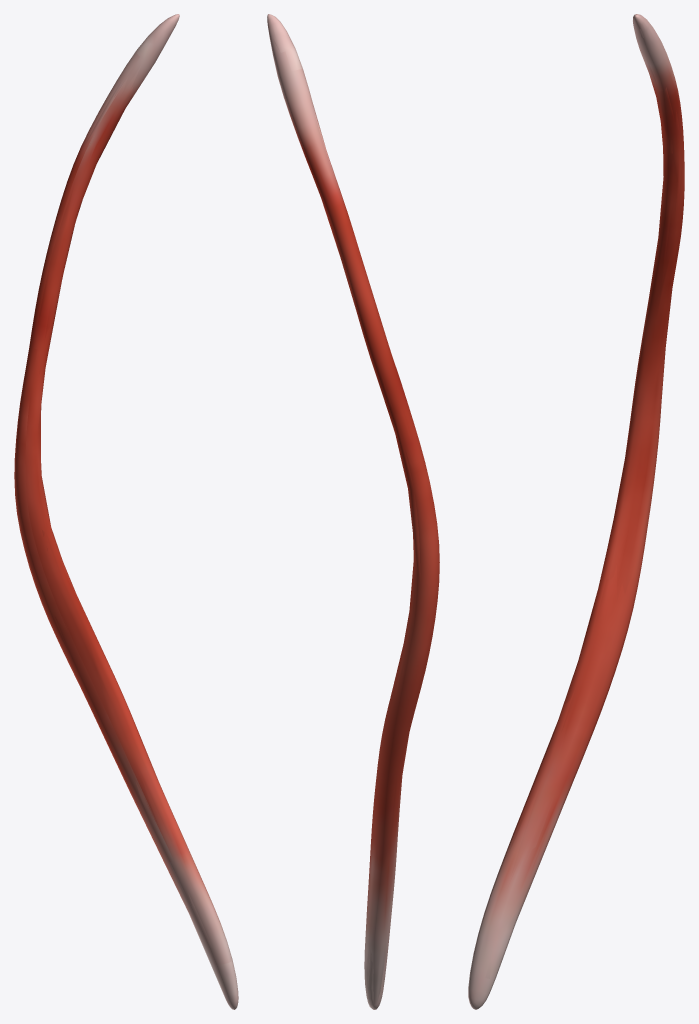
The model's file is R Tensor Fasciae Antebrachii.fbx.
3 views of the same model, side by side, from view 1: azimuth 30°, elevation 25°; view 2: azimuth 150°, elevation 25°; view 3: azimuth 270°, elevation 25° (orthographic). The views are drawn at different scales.
Visible parts, largest first — view 1: R Tensor Fasciae Antebrachii, R Tensor Fasciae Antebrachii low; view 2: R Tensor Fasciae Antebrachii, R Tensor Fasciae Antebrachii low; view 3: R Tensor Fasciae Antebrachii, R Tensor Fasciae Antebrachii low.
Boxes of the visible parts, x1,y1,x2,y2 form: R Tensor Fasciae Antebrachii: (14,14,238,1009); R Tensor Fasciae Antebrachii low: (16,18,231,999); R Tensor Fasciae Antebrachii: (267,14,439,1009); R Tensor Fasciae Antebrachii low: (273,17,438,1005); R Tensor Fasciae Antebrachii: (468,14,684,1009); R Tensor Fasciae Antebrachii low: (474,17,683,1003).
Bounding box in the file's own units: 10.47 × 59.56 × 11.63.
